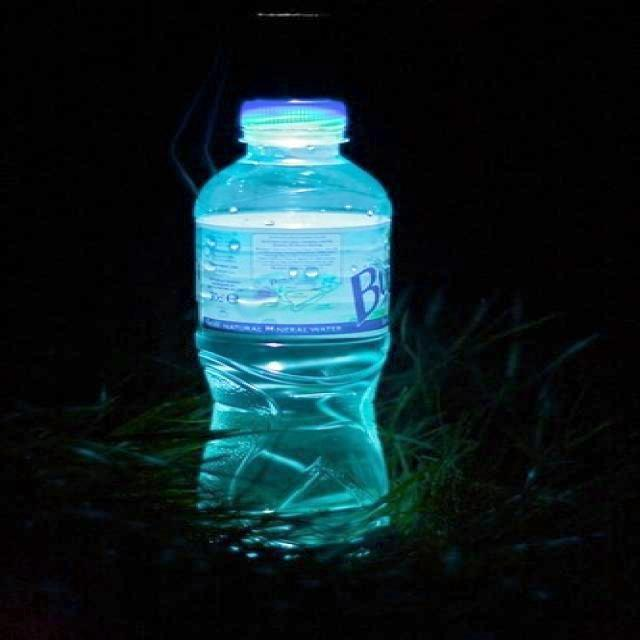bottle: (195, 100, 394, 561)
